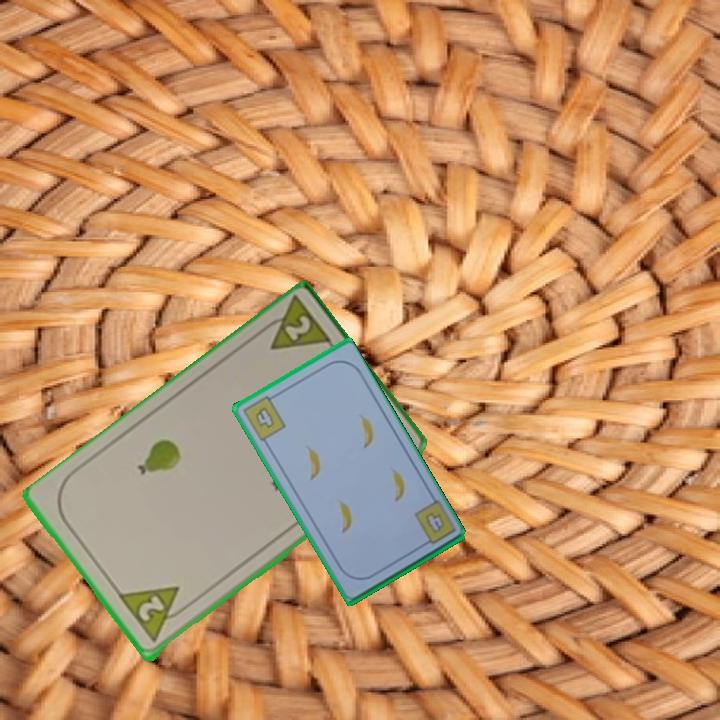2p: (254, 294, 336, 354), (134, 592, 168, 625)
4b: (239, 390, 289, 444), (421, 508, 447, 536)
